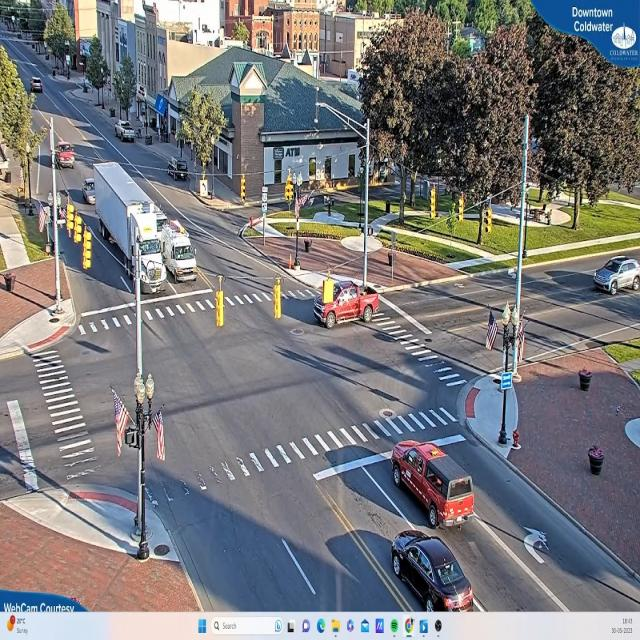car: (391, 438, 477, 530), (392, 528, 480, 610), (314, 284, 379, 329), (593, 258, 639, 298), (55, 144, 75, 170), (117, 122, 137, 144), (82, 178, 96, 204), (31, 78, 42, 94)
truck: (94, 163, 171, 292)
